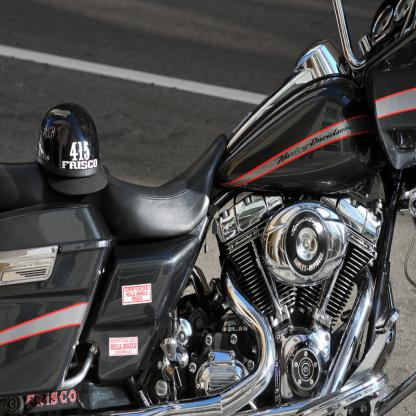Helmet: (39, 106, 103, 196)
